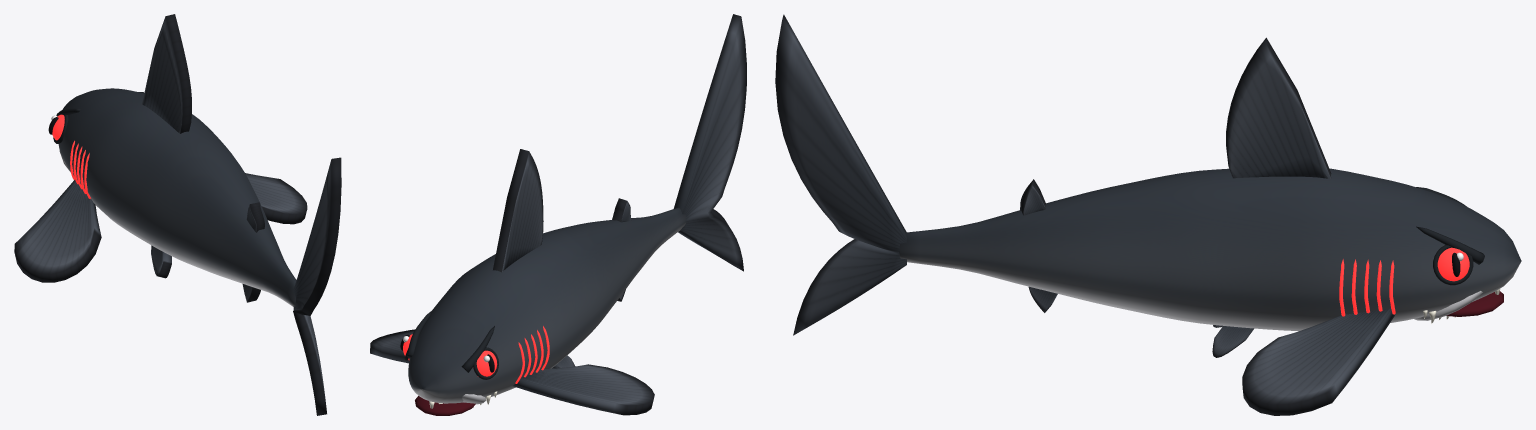
The model's file is Megalodon.glb.
3 views of the same model, side by side, from view 1: azimuth 30°, elevation 25°; view 2: azimuth 150°, elevation 25°; view 3: azimuth 270°, elevation 25° (orthographic). The views are drawn at different scales.
Parts seen in each view (by area): view 1: Megalodon, Megalodon_Glow; view 2: Megalodon, Megalodon_Glow; view 3: Megalodon, Megalodon_Glow.
Part boxes in pixels (box(x1,y1,x2,y2)): Megalodon: box(14, 14, 341, 415); Megalodon_Glow: box(52, 114, 90, 198); Megalodon: box(370, 14, 746, 415); Megalodon_Glow: box(403, 326, 549, 383); Megalodon: box(775, 14, 1521, 415); Megalodon_Glow: box(1339, 247, 1469, 316).
Bounding box in the file's own units: 4.27 × 3.78 × 7.9.
Materials: 2 (1 with a texture image).
